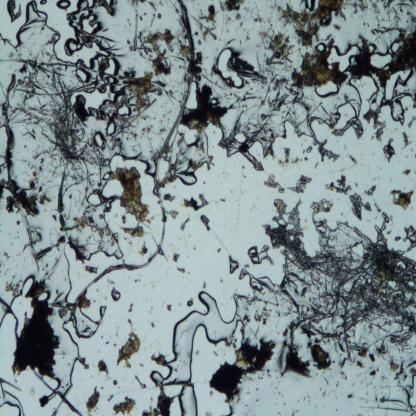Air bubble: (150, 288, 230, 388), (64, 197, 127, 263), (312, 81, 365, 134), (16, 0, 63, 56), (50, 316, 81, 394), (388, 67, 416, 124), (67, 83, 118, 112), (216, 46, 245, 90), (61, 239, 79, 306), (327, 40, 360, 70), (10, 272, 36, 310), (0, 295, 21, 341), (74, 308, 102, 340), (0, 382, 25, 416), (66, 1, 90, 35), (176, 384, 198, 416), (170, 166, 198, 186), (315, 79, 340, 97), (370, 50, 392, 68), (103, 58, 121, 78), (62, 38, 82, 55), (114, 104, 133, 119), (246, 246, 261, 264), (227, 255, 240, 275), (87, 192, 102, 209), (232, 130, 248, 143), (105, 122, 118, 138), (110, 285, 122, 302), (94, 131, 104, 149), (76, 70, 90, 82), (56, 0, 71, 11), (0, 306, 9, 324), (38, 290, 50, 302), (315, 42, 327, 53), (389, 42, 402, 52), (100, 304, 108, 319), (101, 172, 111, 180), (186, 298, 194, 308), (368, 42, 375, 52), (40, 0, 47, 6), (113, 379, 118, 386)
Anthropogenic: (71, 0, 197, 319)
Background material: (320, 235, 416, 358), (13, 54, 107, 179), (262, 197, 325, 279), (12, 275, 57, 379), (343, 36, 416, 88), (256, 74, 318, 134), (225, 77, 275, 150), (128, 13, 182, 78), (286, 43, 351, 87), (277, 0, 344, 40), (182, 86, 229, 140), (111, 168, 152, 228), (272, 318, 310, 380), (255, 22, 296, 69), (282, 278, 322, 326), (0, 180, 47, 220), (229, 337, 280, 372), (122, 68, 168, 105), (298, 328, 334, 372), (209, 365, 250, 402), (100, 107, 139, 143), (23, 220, 51, 270), (114, 316, 141, 367), (307, 200, 335, 243), (231, 54, 267, 87), (247, 276, 279, 310), (330, 114, 366, 144), (53, 166, 68, 233), (142, 385, 172, 416), (303, 137, 340, 162), (197, 2, 220, 42), (363, 395, 409, 415), (34, 231, 64, 261), (63, 211, 98, 234), (382, 0, 416, 23), (364, 107, 386, 141), (347, 193, 373, 221), (369, 25, 416, 39), (110, 393, 138, 416), (165, 141, 187, 169), (374, 210, 392, 244), (72, 94, 92, 124), (389, 186, 413, 211), (326, 177, 352, 199), (29, 158, 47, 189), (83, 382, 99, 416), (280, 149, 304, 171), (180, 194, 210, 211), (391, 362, 413, 384), (192, 53, 209, 81), (120, 225, 149, 241), (287, 174, 311, 193), (400, 225, 416, 252), (261, 176, 285, 193), (253, 306, 272, 326), (96, 0, 118, 17), (214, 0, 242, 13), (96, 222, 114, 242), (248, 150, 265, 171), (8, 0, 24, 22), (356, 0, 379, 15), (176, 39, 192, 60), (51, 286, 65, 310), (5, 279, 21, 299), (131, 0, 157, 12), (149, 350, 168, 366), (238, 139, 254, 157), (38, 392, 56, 408), (261, 244, 274, 265), (384, 139, 395, 163), (200, 214, 212, 232), (78, 294, 93, 308), (99, 358, 110, 376), (134, 374, 146, 390), (187, 158, 203, 170), (167, 206, 180, 220), (140, 122, 155, 134), (239, 312, 251, 326), (53, 400, 63, 416), (364, 185, 378, 196), (162, 192, 174, 204), (140, 241, 150, 255), (1, 248, 12, 260), (332, 20, 342, 33), (403, 132, 410, 150), (366, 353, 376, 365), (401, 167, 412, 177), (338, 356, 348, 367), (374, 201, 383, 213), (407, 361, 416, 373), (337, 368, 346, 380), (392, 231, 400, 243), (174, 266, 186, 274), (173, 251, 180, 264), (357, 359, 366, 369), (254, 15, 264, 23), (120, 214, 128, 224), (62, 307, 68, 320), (201, 278, 208, 289), (265, 367, 272, 378), (345, 391, 352, 400), (369, 371, 378, 378), (150, 321, 157, 329), (212, 348, 219, 356), (197, 35, 202, 46), (106, 279, 115, 285), (218, 276, 224, 285), (219, 196, 226, 203), (130, 301, 134, 313), (291, 410, 299, 416), (52, 213, 57, 222), (321, 390, 327, 397), (257, 374, 264, 380), (167, 303, 172, 311), (134, 278, 142, 283), (216, 247, 222, 253), (15, 220, 20, 226), (105, 340, 110, 346), (113, 342, 118, 347), (140, 362, 144, 368)
Cotton: (32, 369, 81, 416), (0, 73, 20, 182)
Diatom: (84, 266, 98, 274), (348, 154, 358, 165), (180, 224, 186, 232), (83, 364, 89, 370)
